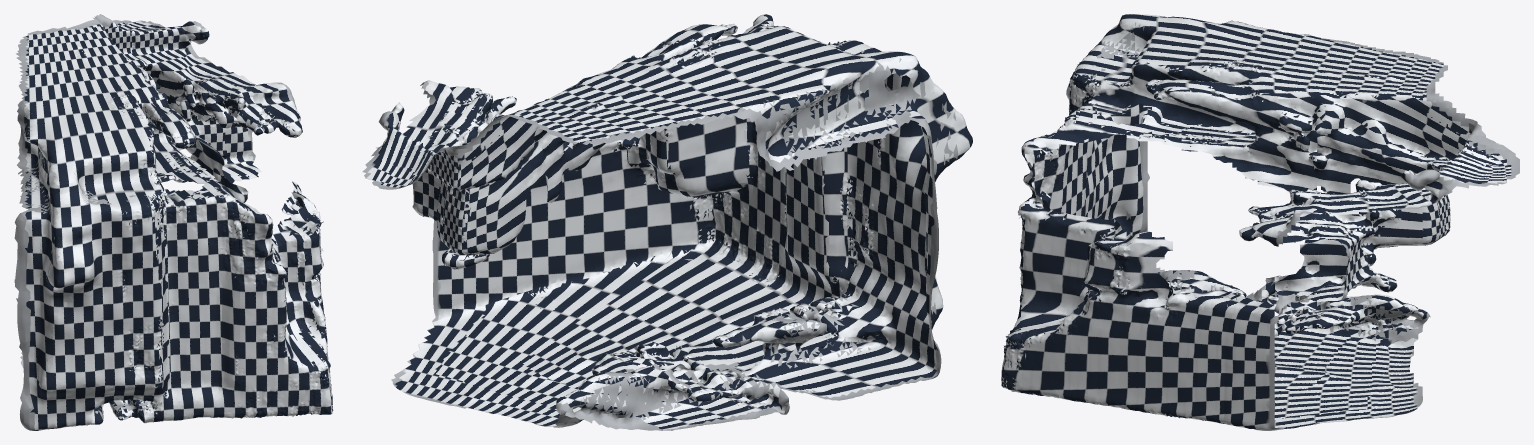
File: small_scene_desk_window_checkerboard.glb
3 views of the same model, side by side, from view 1: azimuth 30°, elevation 25°; view 2: azimuth 150°, elevation 25°; view 3: azimuth 270°, elevation 25° (orthographic). The views are drawn at different scales.
Visible parts, largest first — view 1: geometry_0; view 2: geometry_0; view 3: geometry_0.
Boxes of the visible parts, x1,y1,x2,y2 form: geometry_0: [14, 14, 333, 430]; geometry_0: [362, 14, 972, 430]; geometry_0: [1001, 14, 1519, 430].
Size of the model in its own units: 0.7387 by 0.5344 by 0.8972.
1 material, 1 textured.
